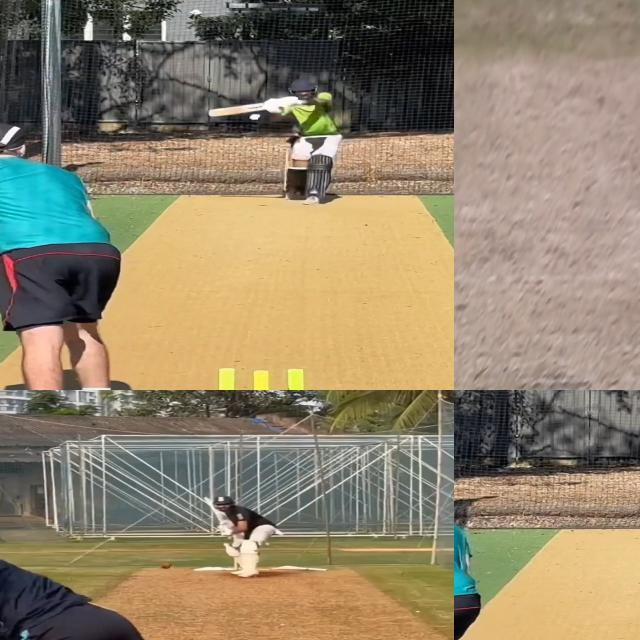Cricket ball: (248, 113, 262, 121), (160, 562, 174, 570)
